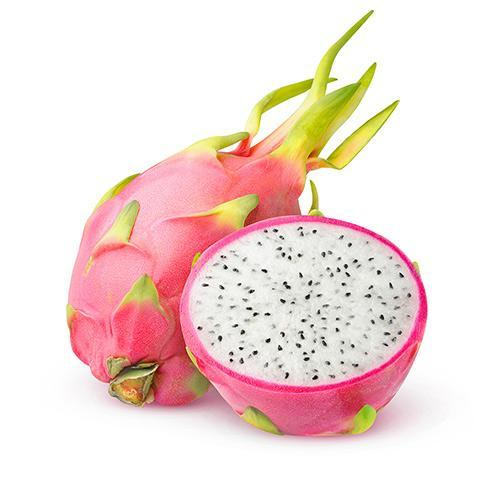dragon-fruit: (64, 150, 302, 408), (177, 214, 429, 440)
